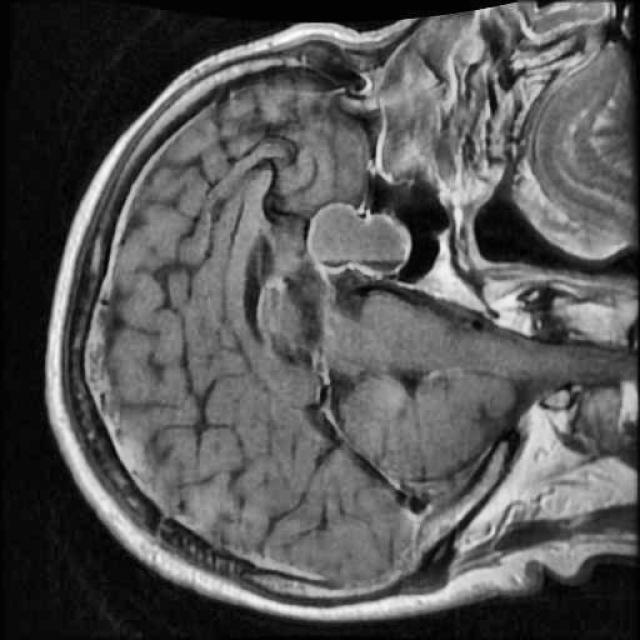Tumor: (282, 181, 439, 308)
